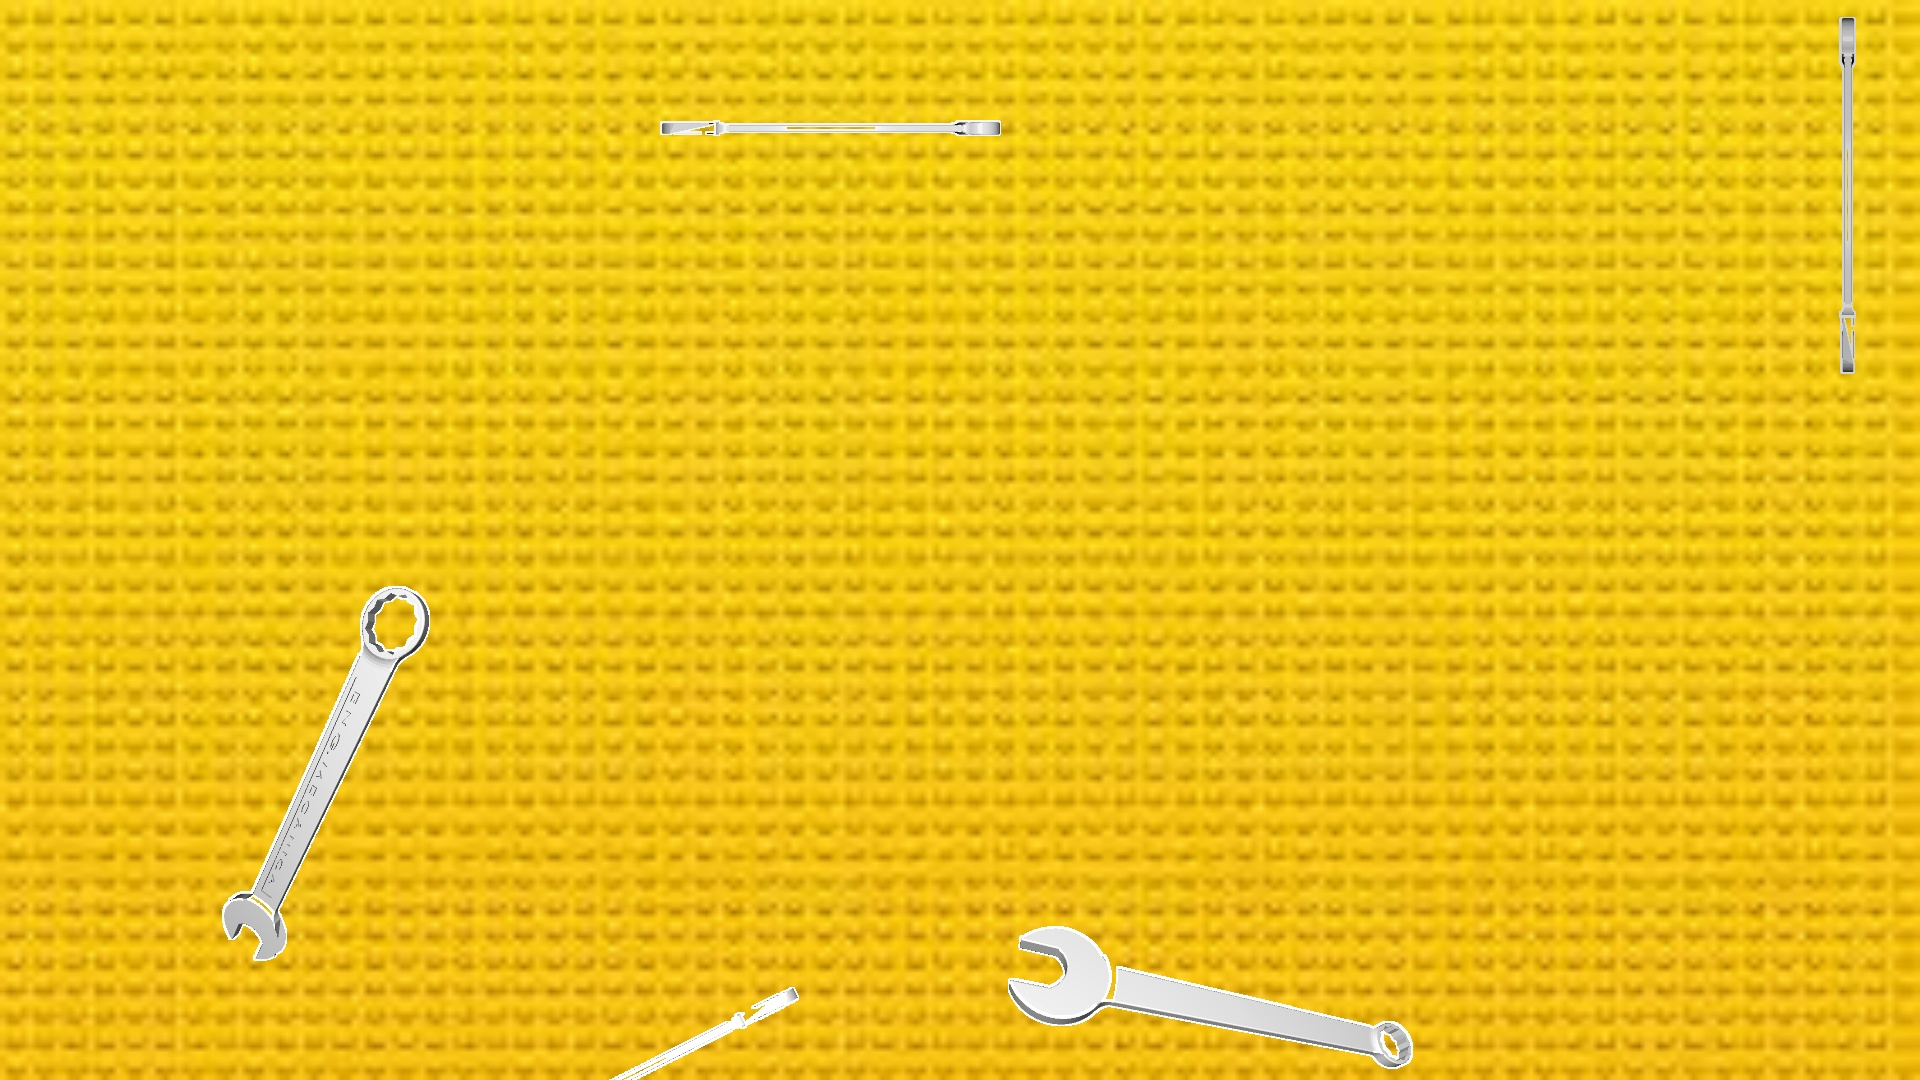Mixed Key: (222, 585, 429, 960), (1007, 926, 1412, 1068), (609, 986, 798, 1079), (1840, 17, 1855, 373), (659, 120, 1000, 135)
